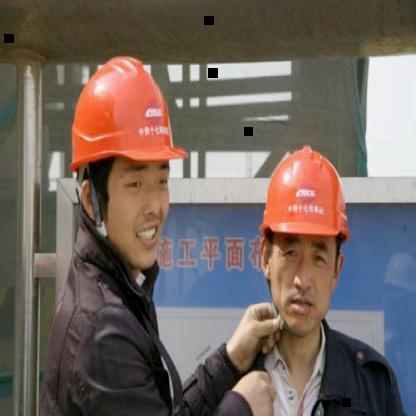helmet: (64, 50, 197, 173), (259, 140, 353, 246)
